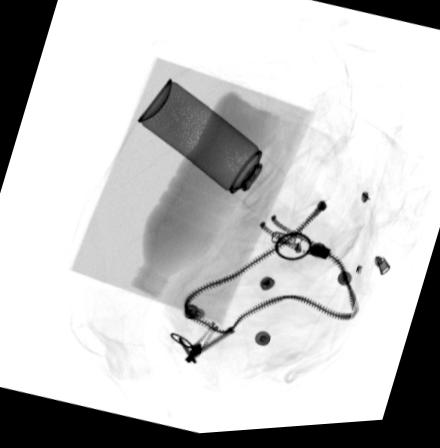Sprayer: (136, 78, 288, 216)
